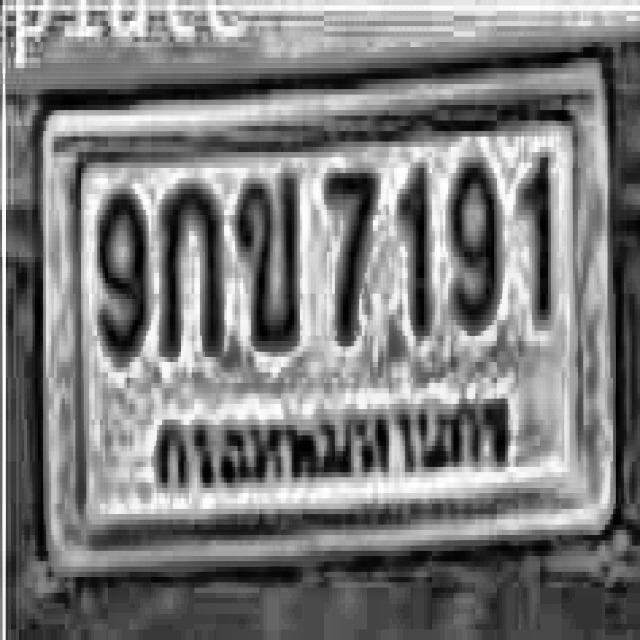license-plate: (37, 74, 624, 564)
